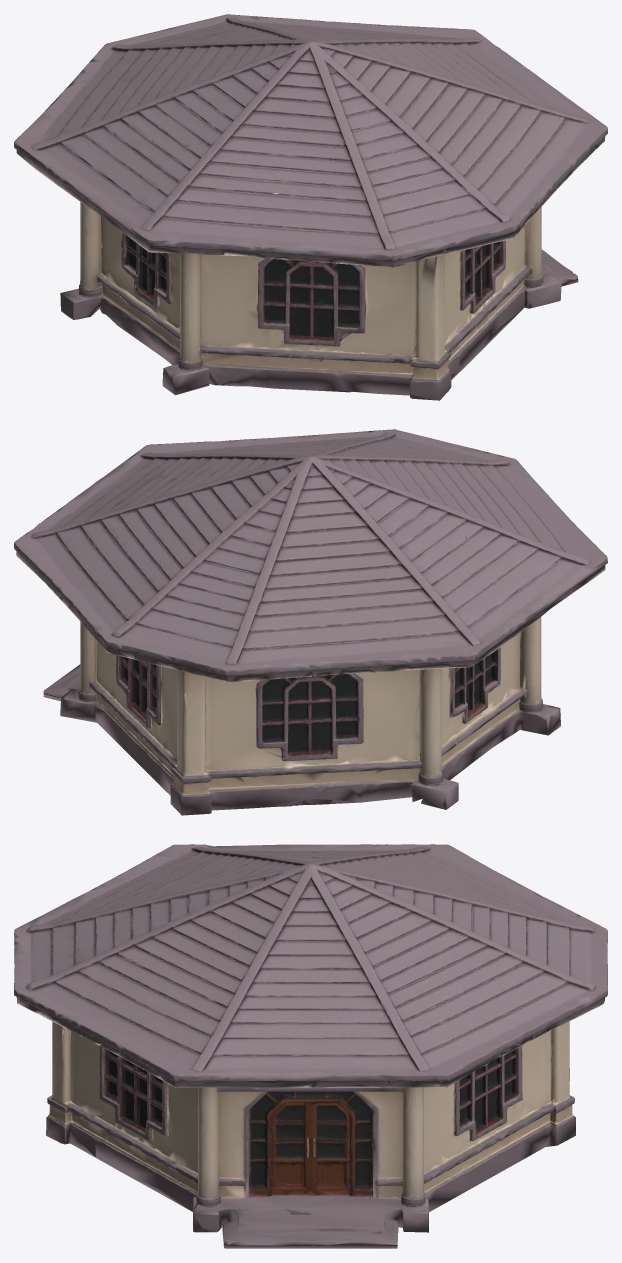
File: AmyDanceStudio.glb
3 renders of one model, top to bottom at view 1: azimuth 30°, elevation 25°; view 2: azimuth 150°, elevation 25°; view 3: azimuth 270°, elevation 25°, orthographic. The views are drawn at different scales.
Parts seen in each view (by area): view 1: tripo_node_653ad2a5-fe7c-426d-810c-d316ff40697d; view 2: tripo_node_653ad2a5-fe7c-426d-810c-d316ff40697d; view 3: tripo_node_653ad2a5-fe7c-426d-810c-d316ff40697d.
Part boxes in pixels (x1,y1,x2,y2): tripo_node_653ad2a5-fe7c-426d-810c-d316ff40697d: (14, 14, 607, 400); tripo_node_653ad2a5-fe7c-426d-810c-d316ff40697d: (14, 429, 607, 815); tripo_node_653ad2a5-fe7c-426d-810c-d316ff40697d: (14, 844, 607, 1248).
Size of the model in its own units: 0.9023 by 0.4934 by 0.98.
1 material, 1 textured.
